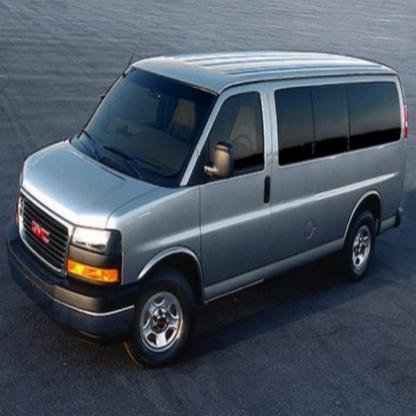car: (15, 39, 410, 361)
